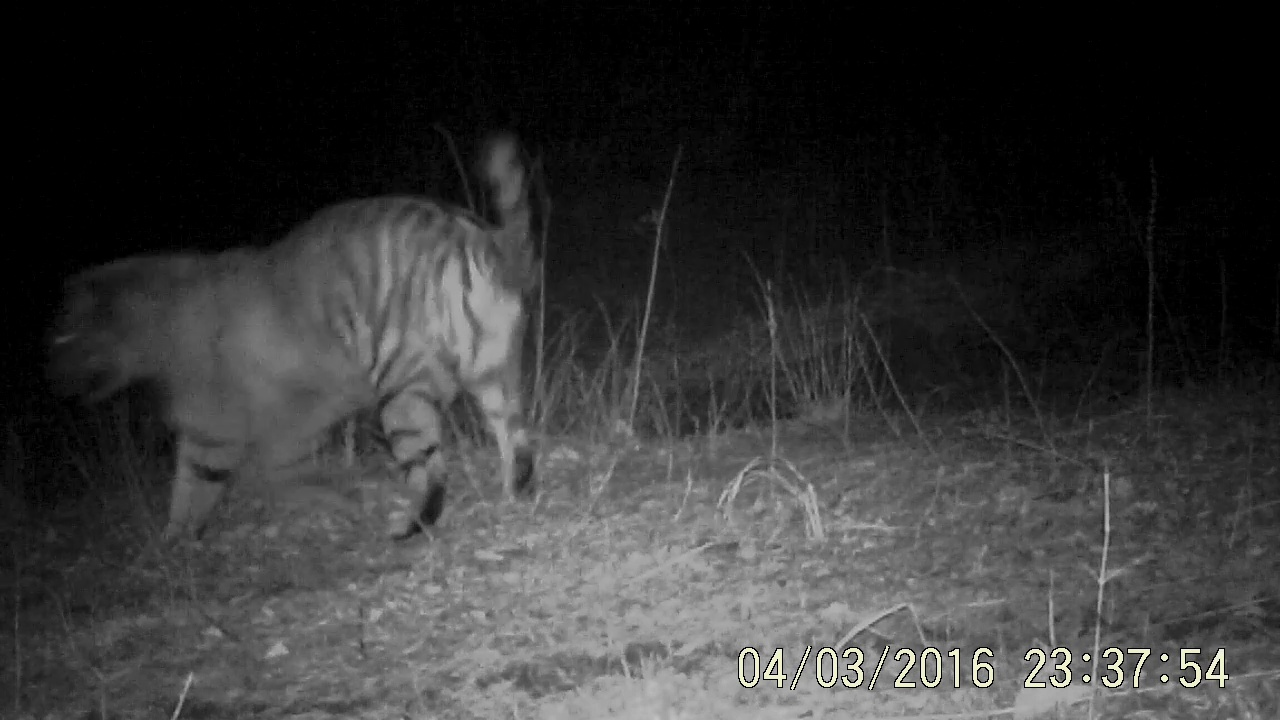Tiger: (41, 170, 726, 545)
